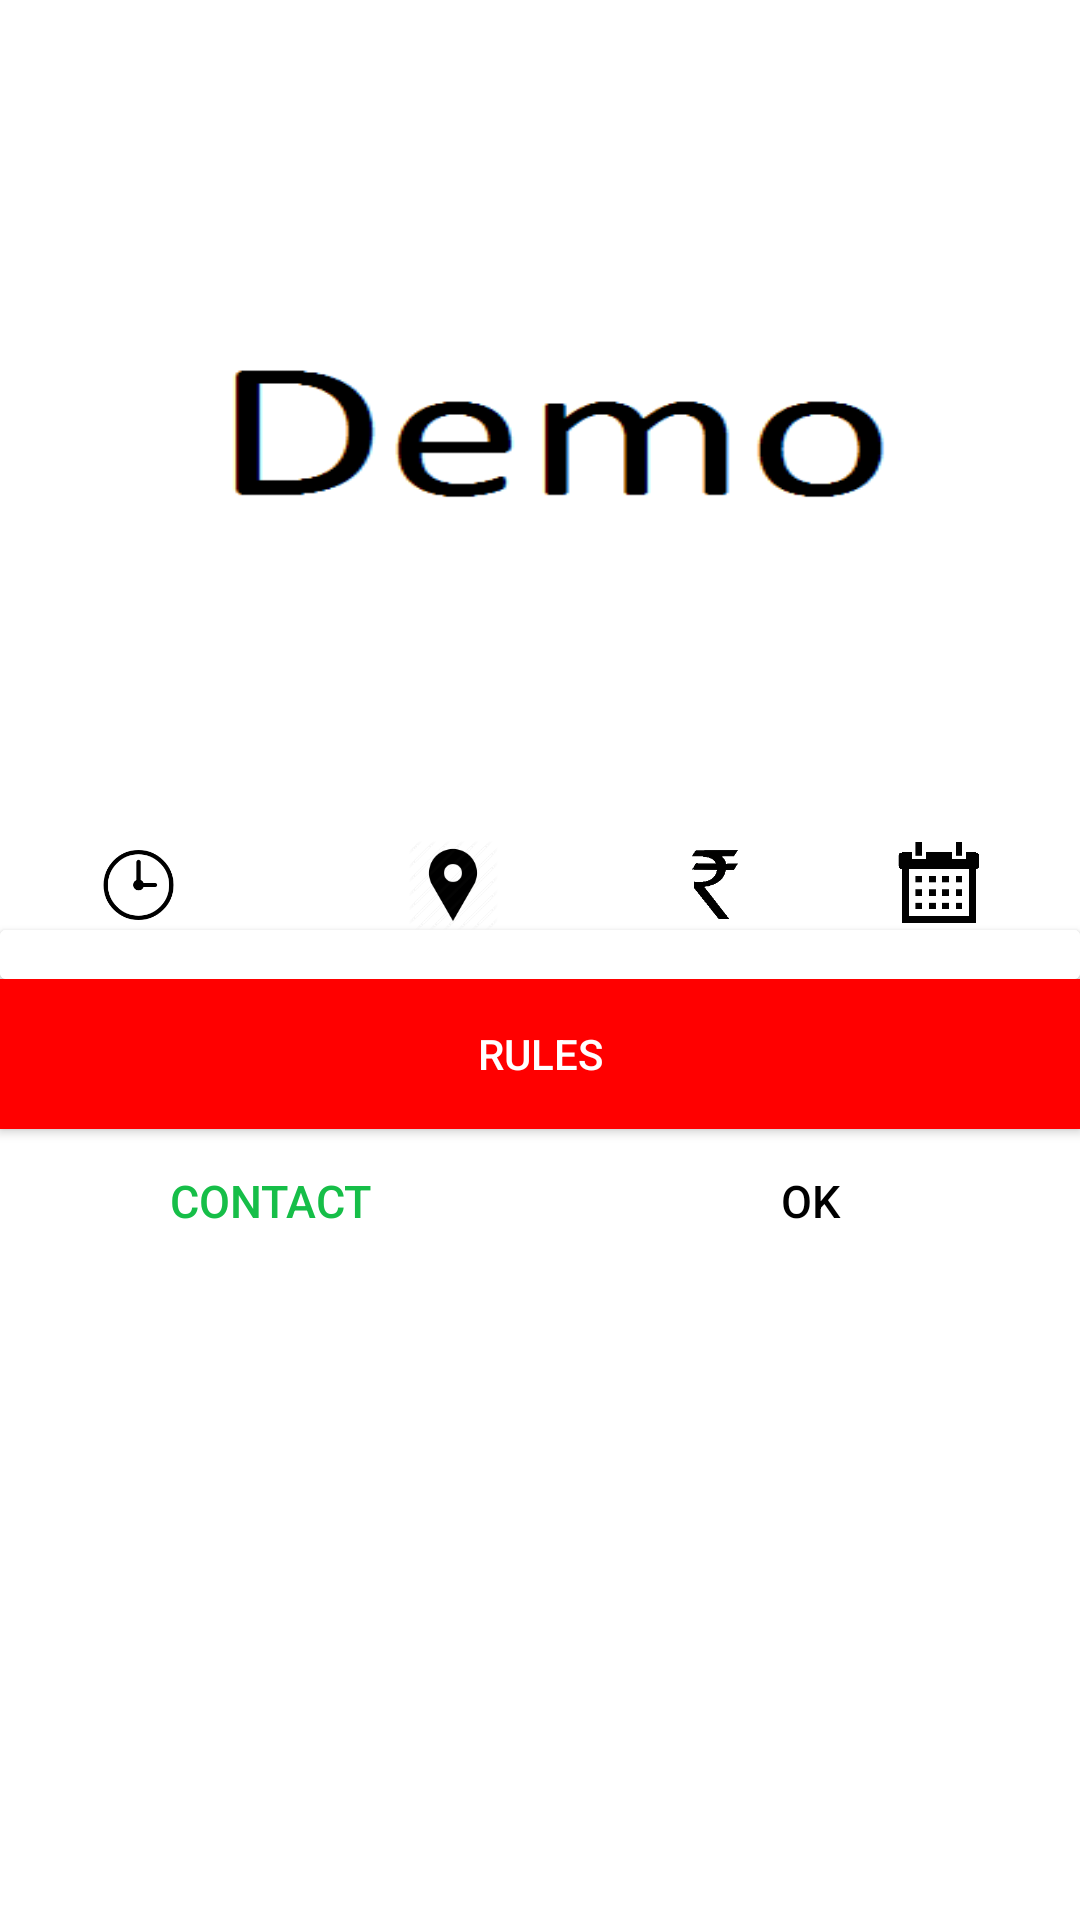

Icon bounding boxes for this 1080 x 1920 phone screenshot, format bbox=[x1, y1, x2, y2]:
date: bbox=[898, 842, 979, 923]
loc: bbox=[429, 848, 477, 921]
ruppes: bbox=[692, 850, 738, 919]
time: bbox=[103, 850, 174, 920]
